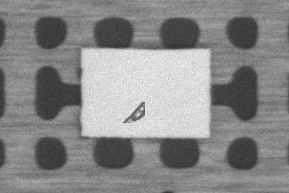DIE_INK: (121, 102, 145, 123)
